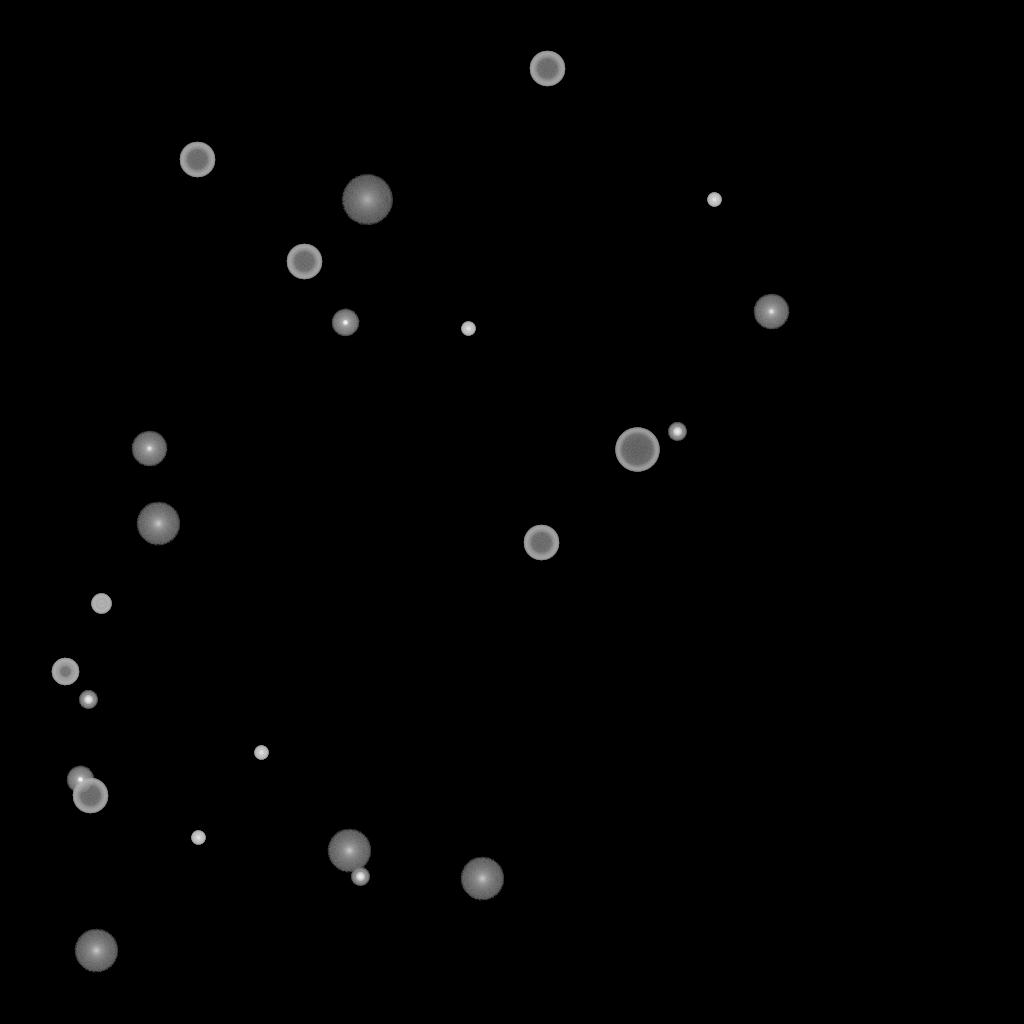depth:-10: (66, 766, 94, 794), (331, 309, 359, 337)
depth:-20: (668, 423, 686, 441), (351, 868, 369, 886), (79, 691, 97, 709)
depth:-30: (461, 322, 475, 336), (191, 831, 205, 845), (254, 746, 268, 760), (707, 193, 721, 207)
depth:-40: (91, 594, 111, 614)
depth:-50: (51, 658, 79, 686)
depth:-60: (529, 51, 565, 87), (286, 244, 322, 280), (179, 142, 215, 178), (72, 778, 108, 814), (523, 525, 559, 561)
depth:-70: (615, 428, 659, 472)
depth:0: (131, 431, 167, 467), (753, 294, 789, 330)
depth:10: (460, 857, 504, 901), (74, 929, 118, 973), (136, 502, 180, 546), (327, 829, 371, 873)
depth:20: (341, 175, 393, 225)
